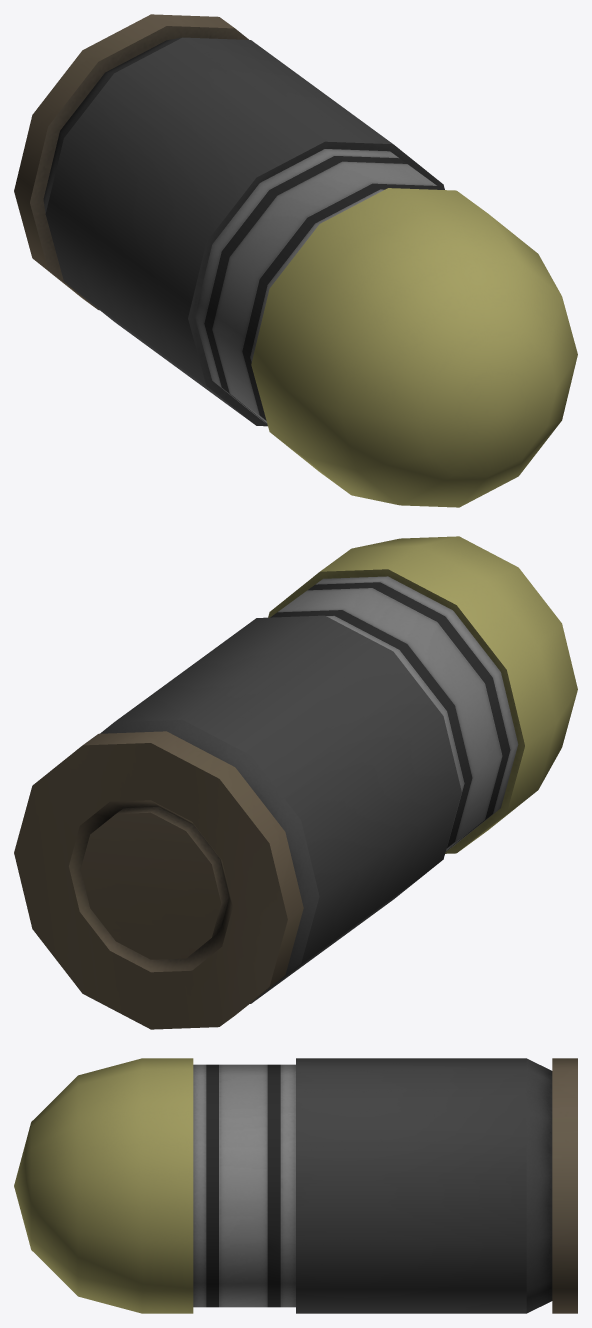
Rendered from grenade_launcher_projectile_low.fbx.
3 views of the same model, one above another, from view 1: azimuth 30°, elevation 25°; view 2: azimuth 150°, elevation 25°; view 3: azimuth 270°, elevation 25° (orthographic). The views are drawn at different scales.
Parts seen in each view (by area): view 1: grenade_launcher_projectile_low; view 2: grenade_launcher_projectile_low; view 3: grenade_launcher_projectile_low.
Boxes of the visible parts, bbox=[...] form: grenade_launcher_projectile_low: bbox=[14, 14, 577, 507]; grenade_launcher_projectile_low: bbox=[14, 536, 577, 1029]; grenade_launcher_projectile_low: bbox=[14, 1058, 577, 1313].
Size of the model in its own units: 12.5 by 12.5 by 27.5.
